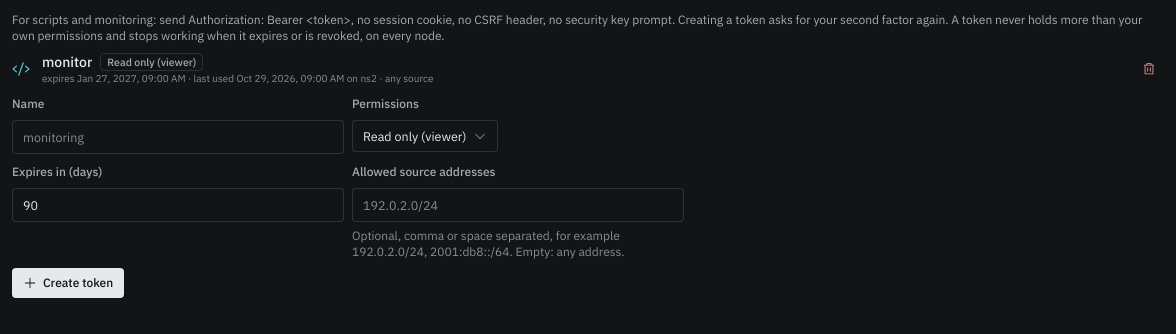
Test case: ApiTokensSection › explains that a second factor is needed
This screenshot has width=1176, height=334.
In the field with test id "token-name-input": (178, 137) [12, 120, 344, 154], type "ci"
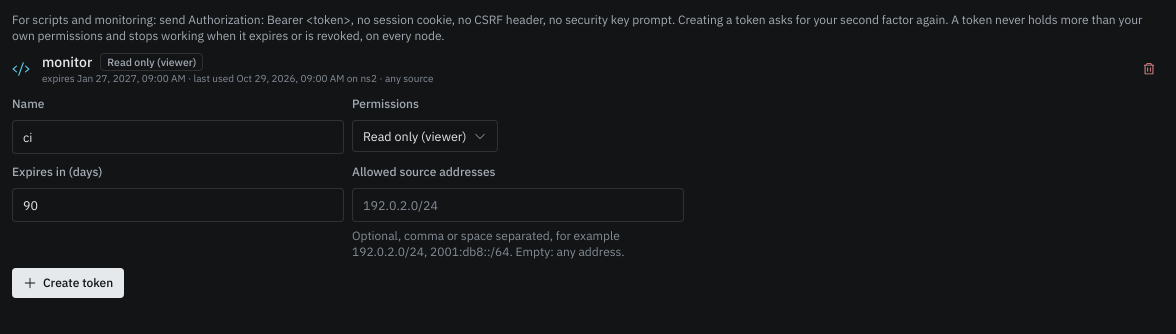
Click the button with test id "token-add-submit": (68, 283) [12, 268, 124, 298]
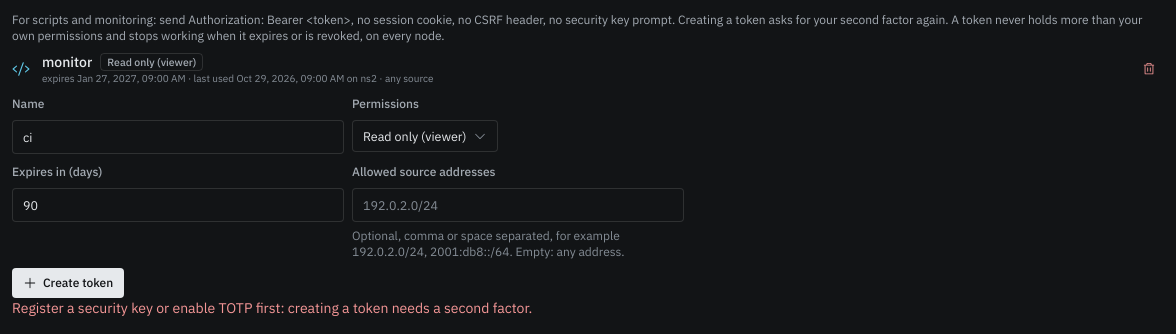
Check: the message with test id "token-error" shows "Register a security key or enable TOTP first", box [12, 299, 532, 317]
